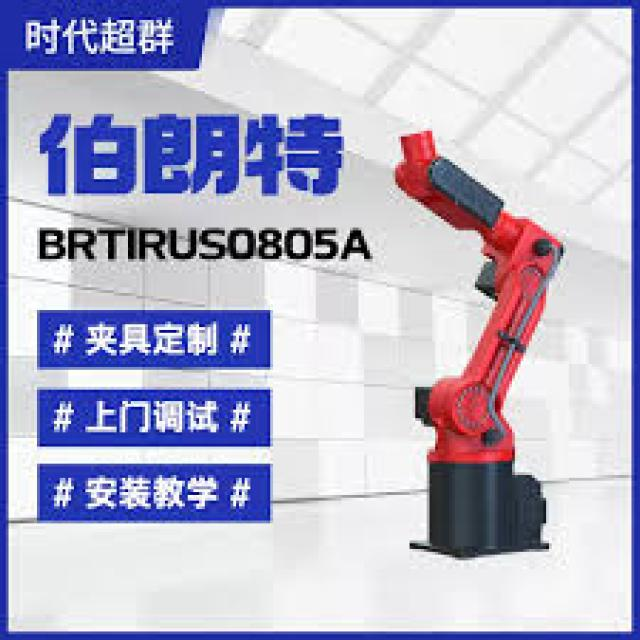Robotic-arm: (385, 125, 568, 564)
